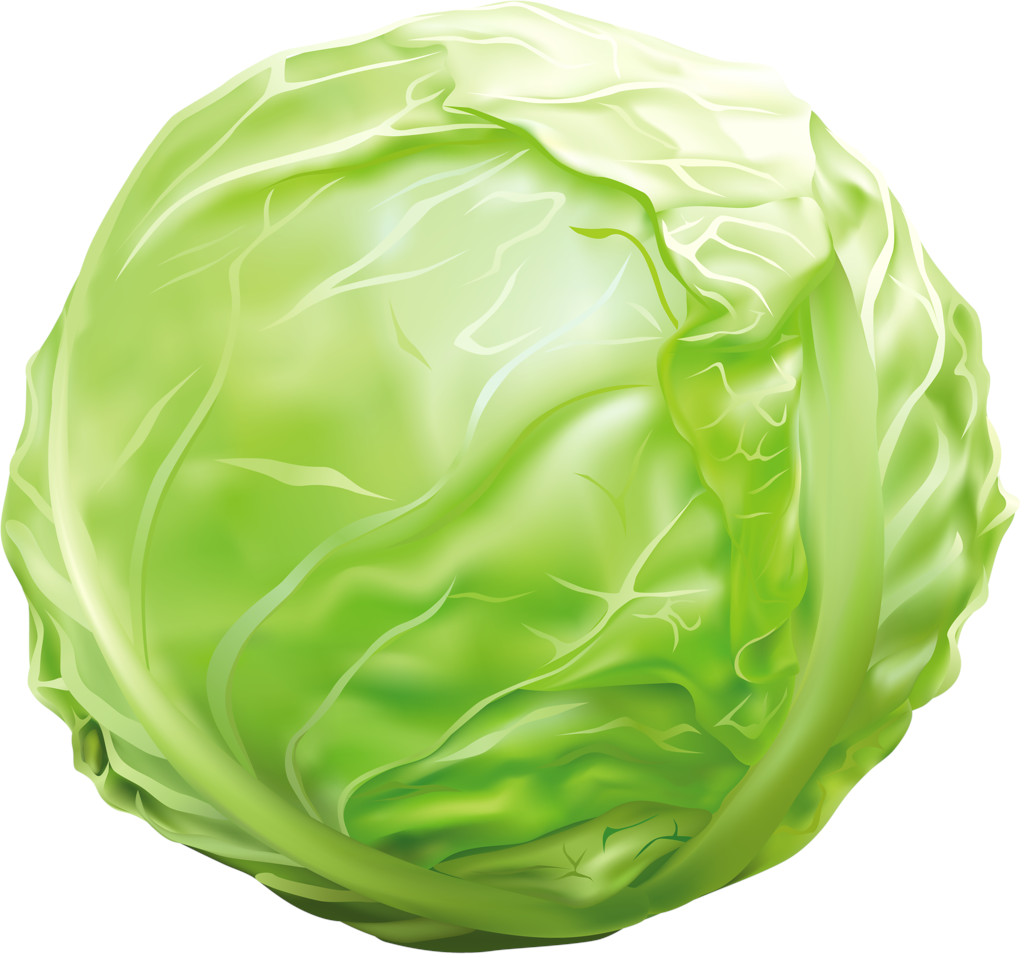cabbage: (2, 1, 1018, 956)
